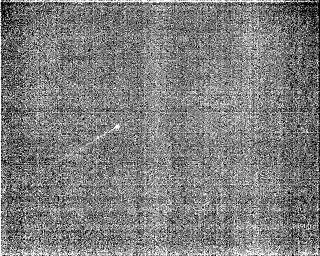AIRPLANE: (58, 122, 122, 161)
